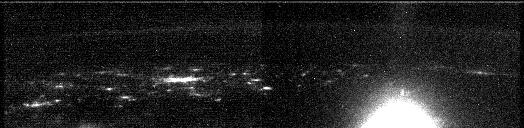positive: (395, 86, 414, 99)
